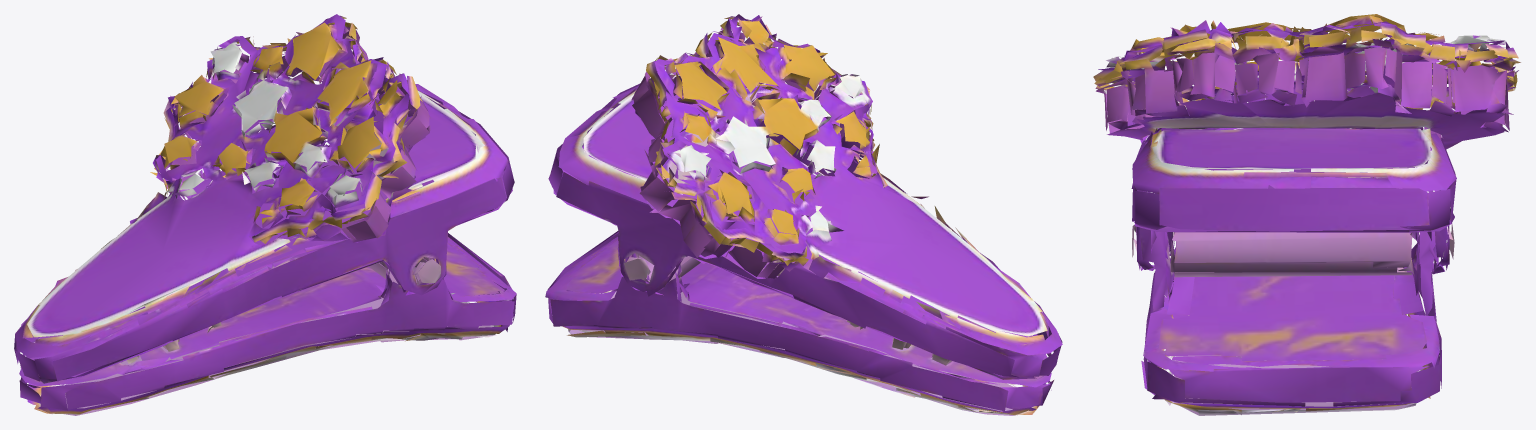
The model's file is gear_party_hair.glb.
3 renders of one model, left to right at view 1: azimuth 30°, elevation 25°; view 2: azimuth 150°, elevation 25°; view 3: azimuth 270°, elevation 25°, orthographic. The views are drawn at different scales.
Parts seen in each view (by area): view 1: gear_party_hair; view 2: gear_party_hair; view 3: gear_party_hair.
Part boxes in pixels (x1,y1,x2,y2): gear_party_hair: (14,14,516,415); gear_party_hair: (545,14,1062,415); gear_party_hair: (1093,14,1520,415).
Bounding box in the file's own units: 0.8153 × 0.5002 × 0.5407.
Materials: 1 (1 with a texture image).
